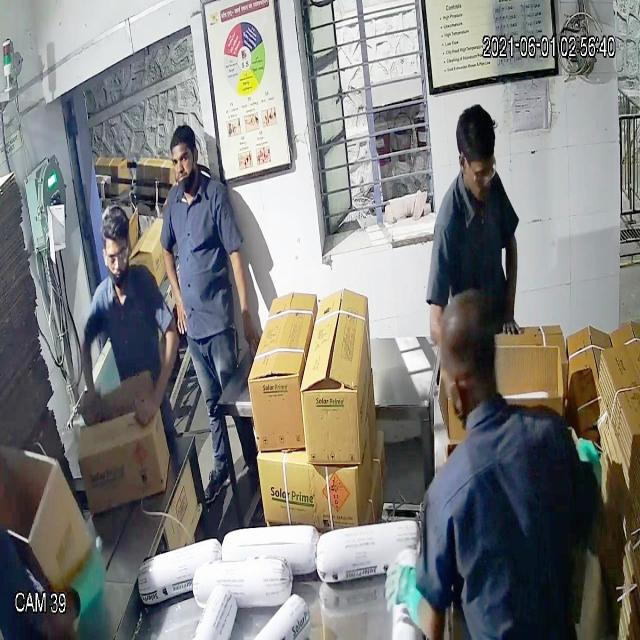glasses: (455, 148, 501, 190), (92, 236, 132, 276)
